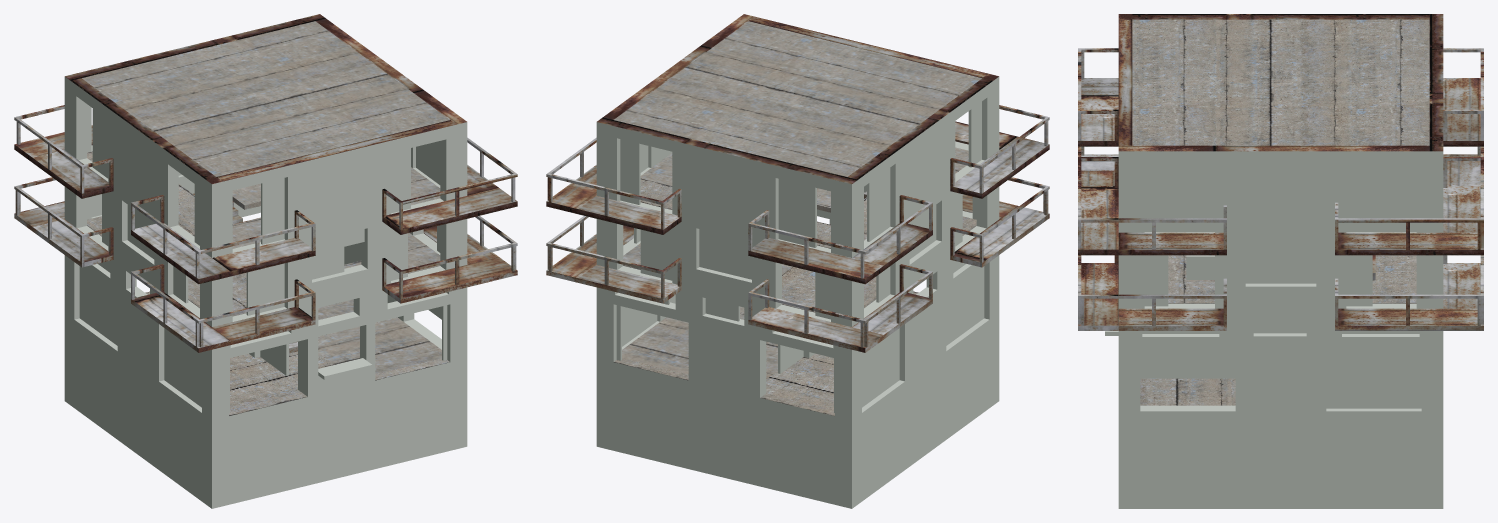
Rendered from BagBuilding3High.fbx.
3 views of the same model, side by side, from view 1: azimuth 30°, elevation 25°; view 2: azimuth 150°, elevation 25°; view 3: azimuth 270°, elevation 25° (orthographic). The views are drawn at different scales.
Visible parts, largest first — view 1: mainA300, balconies300, roof300, floors300; view 2: mainA300, balconies300, roof300, floors300; view 3: mainA300, balconies300, roof300, floors300.
Boxes of the visible parts, box(x1,y1,x2,y2) form: mainA300: box(64, 77, 467, 508); balconies300: box(14, 14, 517, 352); roof300: box(82, 21, 449, 176); floors300: box(87, 151, 449, 415); mainA300: box(596, 77, 999, 508); balconies300: box(546, 14, 1049, 352); roof300: box(614, 21, 981, 176); floors300: box(614, 147, 976, 415); mainA300: box(1105, 151, 1443, 508); balconies300: box(1078, 14, 1483, 330); roof300: box(1132, 19, 1429, 145); floors300: box(1140, 255, 1416, 405).
Bounding box in the file's own units: 20.38 × 19.81 × 20.38.
